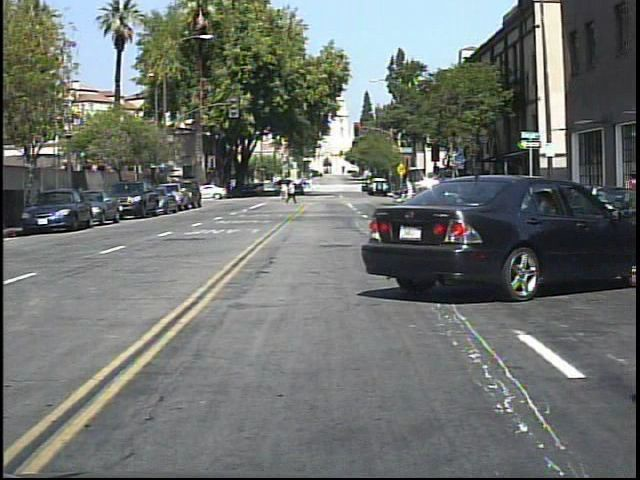person: (419, 161, 451, 254), (525, 169, 544, 223), (402, 174, 422, 209), (287, 176, 303, 207), (622, 167, 636, 189)
